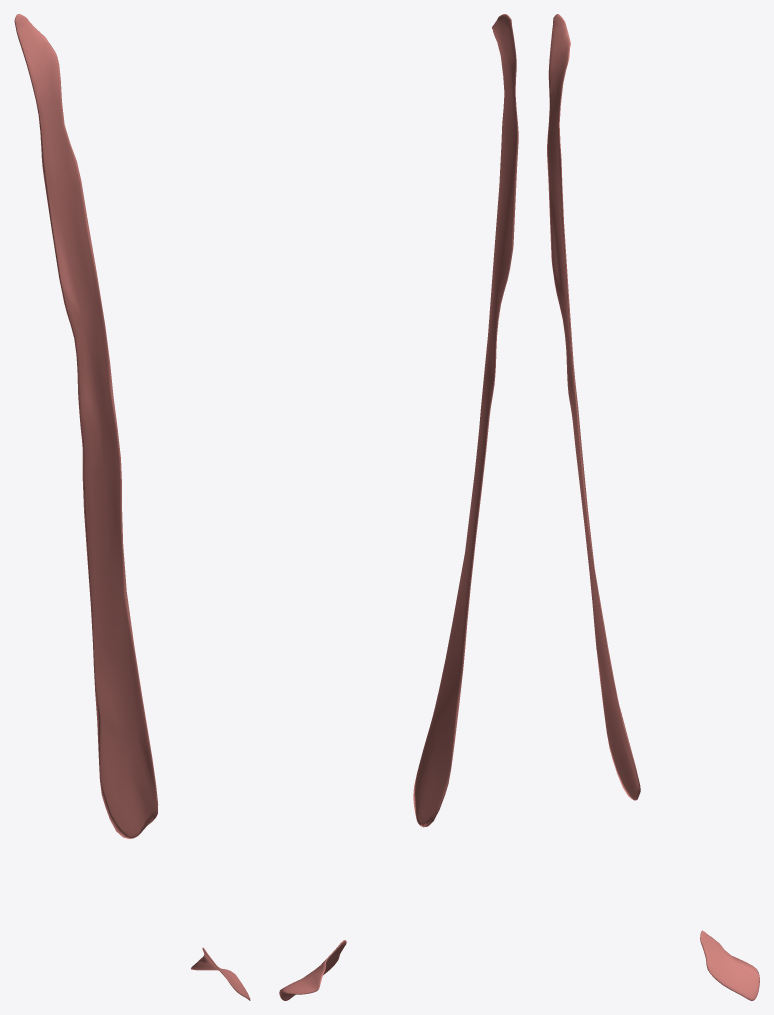
The picture shows the model from 3 angles, left to right: view 1: azimuth 30°, elevation 25°; view 2: azimuth 150°, elevation 25°; view 3: azimuth 330°, elevation 25°; orthographic projection. The views are drawn at different scales.
Visible parts, largest first — view 1: ZA_4ca5cc01bb83ee15; view 2: ZA_4ca5cc01bb83ee15; view 3: ZA_4ca5cc01bb83ee15.
Boxes of the visible parts, bbox=[...] form: ZA_4ca5cc01bb83ee15: bbox=[14, 14, 250, 1000]; ZA_4ca5cc01bb83ee15: bbox=[279, 14, 518, 1000]; ZA_4ca5cc01bb83ee15: bbox=[547, 14, 759, 1000].
Bounding box in the file's own units: 0.0736 × 0.317 × 0.0271.
